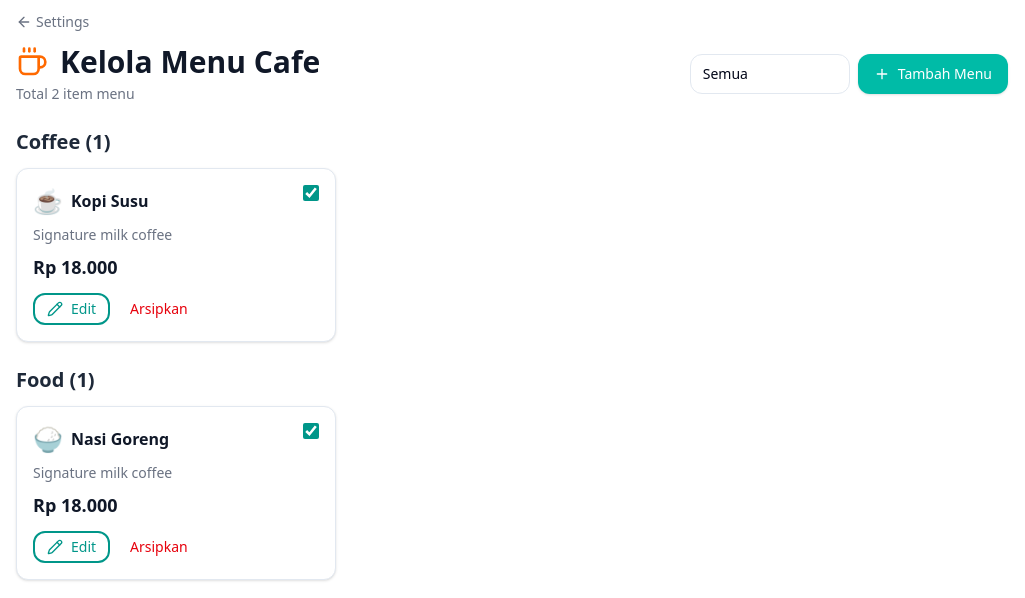
Test: MenuClient › AC-M27: filtering by category shows only that category's items
Select "Food" in the dropdown named "filter kategori" at [770, 74], box x1=690 y1=54 x2=850 y2=94
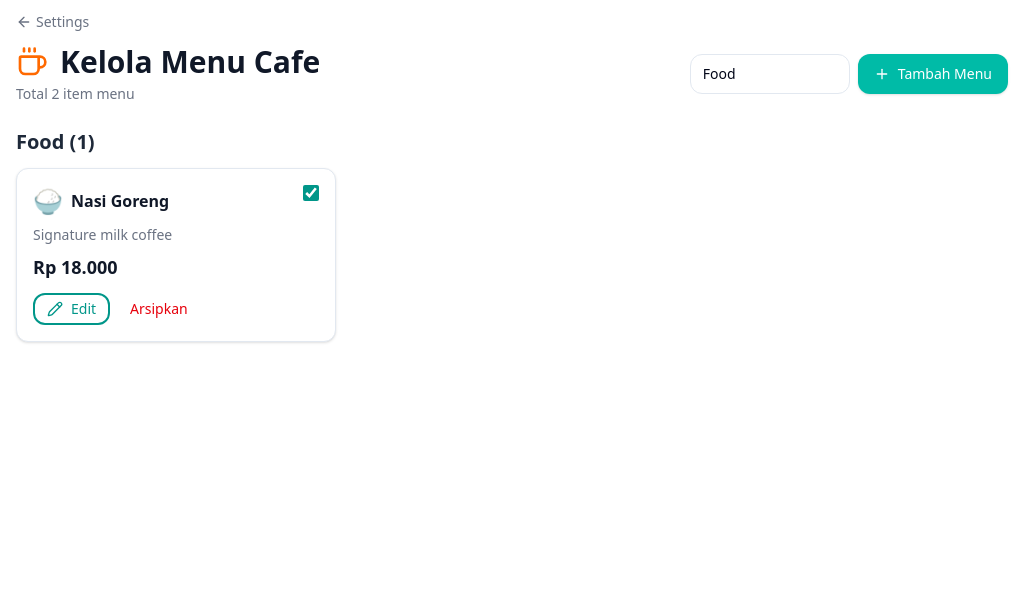
Expected: the text "Nasi Goreng" is shown, x1=71 y1=189 x2=169 y2=213
Now the text "Kopi Susu" is gone
